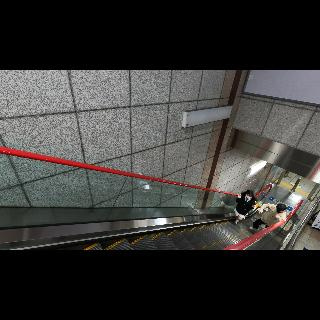normal: (250, 203, 288, 231), (236, 189, 256, 227)
